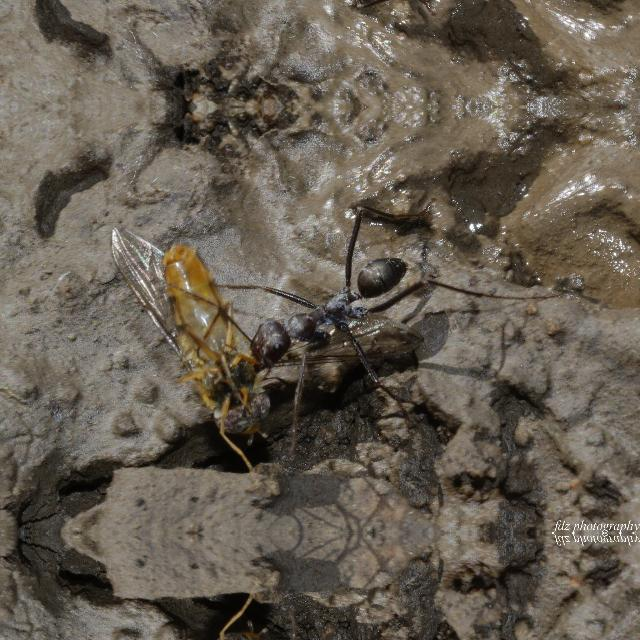Cataglyphis: (226, 230, 452, 376)
